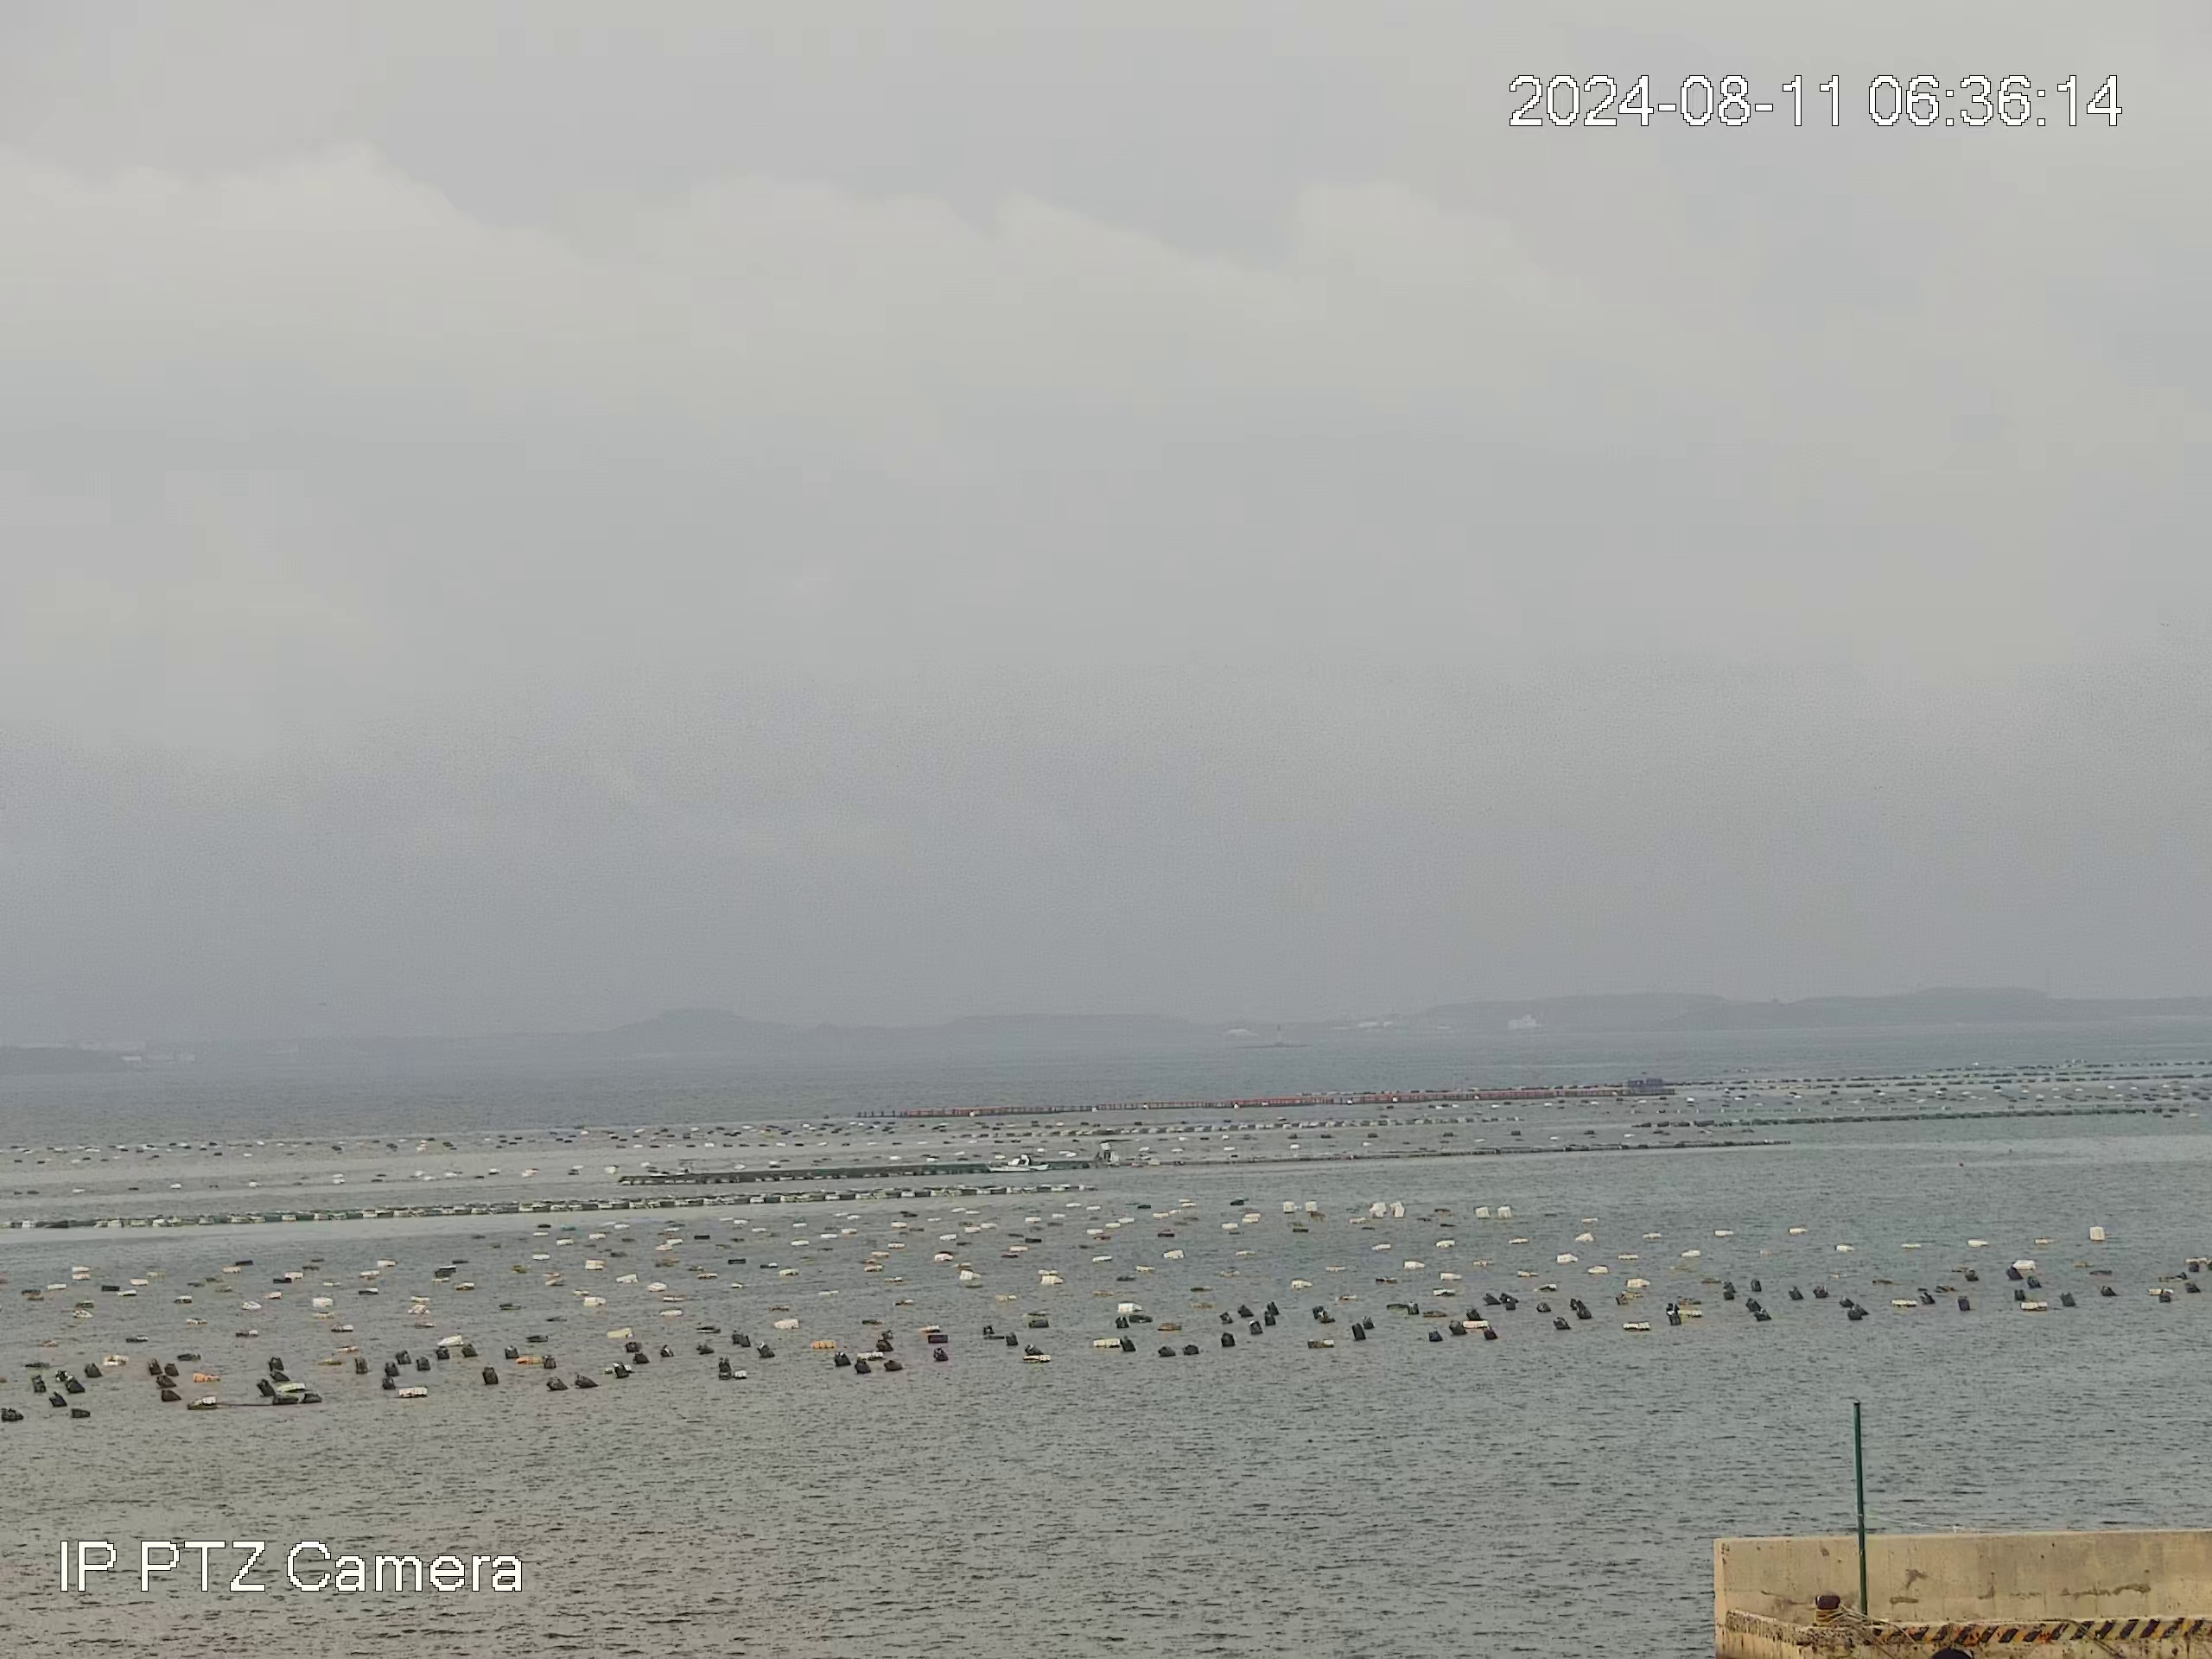boat: (981, 1152, 1052, 1173)
